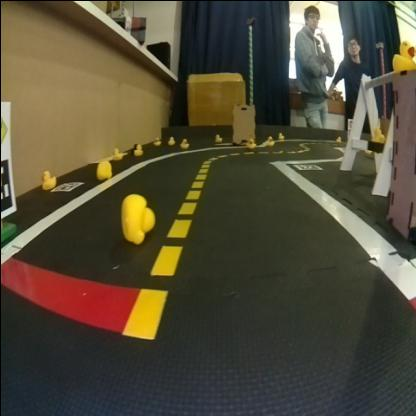Duckie: (120, 193, 152, 242), (391, 39, 413, 67), (95, 160, 110, 178), (41, 170, 55, 188), (370, 128, 382, 140), (112, 147, 121, 158), (265, 134, 271, 142), (246, 137, 252, 145), (214, 132, 220, 140), (179, 138, 185, 146), (152, 136, 158, 144), (134, 146, 140, 154), (276, 131, 282, 138), (167, 134, 171, 142), (336, 136, 340, 140)
QR code: (48, 180, 82, 188), (292, 162, 320, 170)
